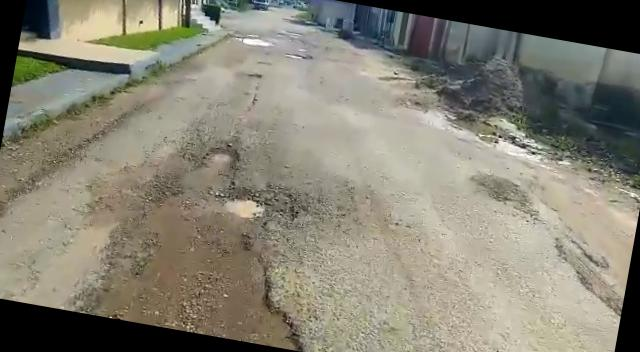pothole: (222, 178, 300, 228), (199, 142, 242, 173)
